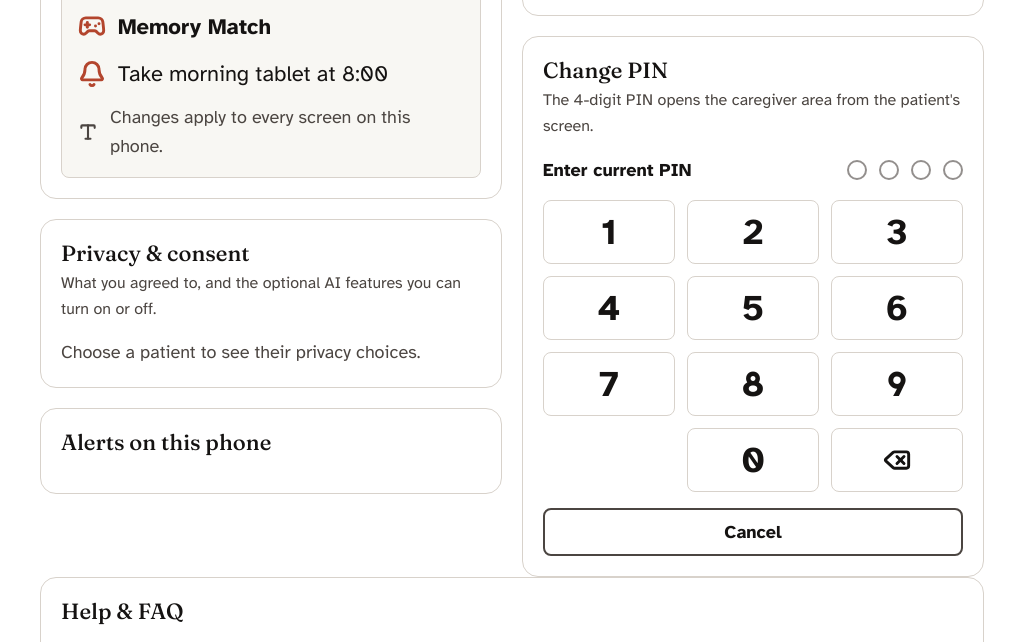
it: Caregiver settings page › blocks the new-PIN step when the current PIN is wrong
(page scrolled)
What coordinates should you click on to do the following:
click the button "9"
I would click on:
 (897, 384)
Its box is [831,352,963,416].
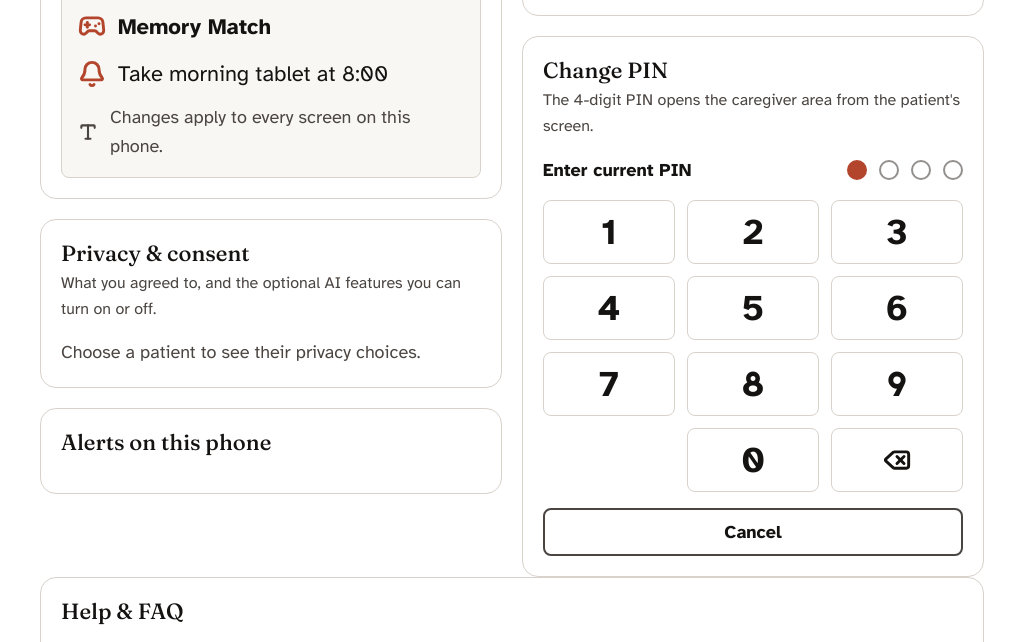
What coordinates should you click on to do the following:
click the button "9"
I would click on:
 (897, 384)
Its box is [831,352,963,416].
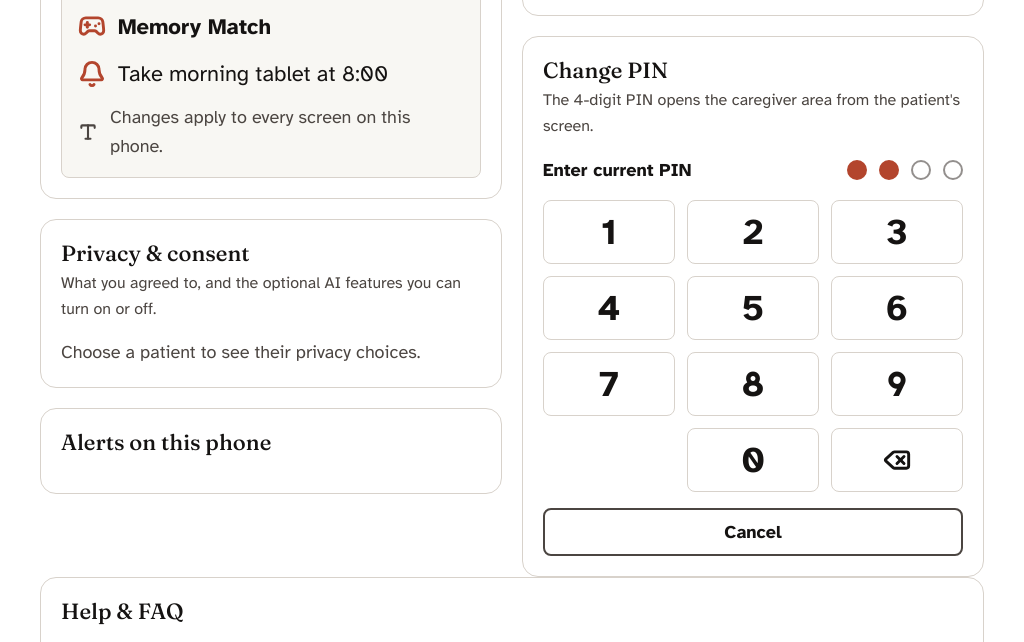
What coordinates should you click on to do the following:
click the button "9"
I would click on:
 (897, 384)
Its box is [831,352,963,416].
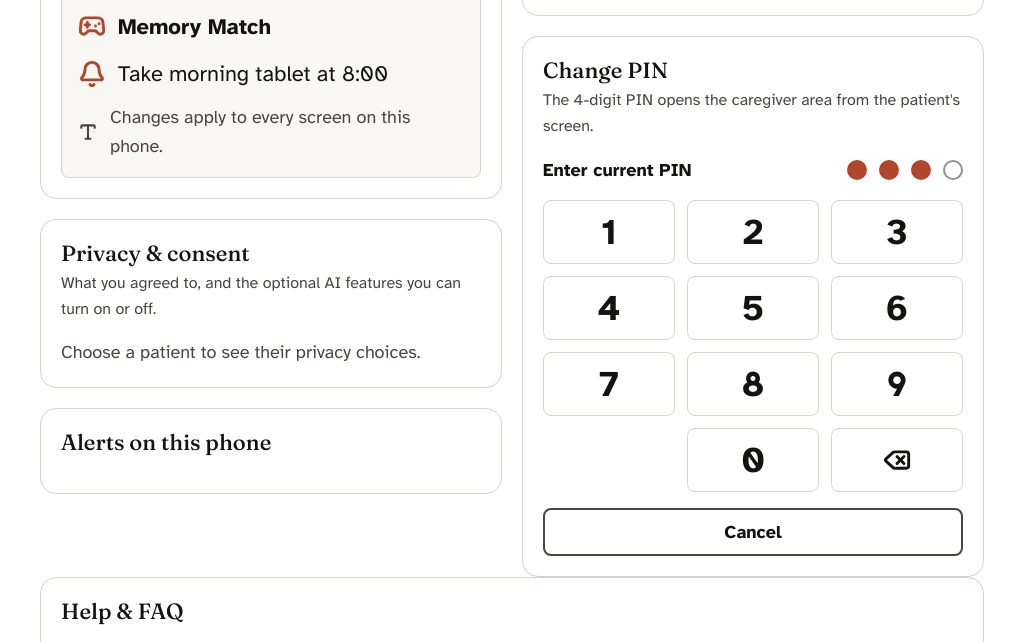
What coordinates should you click on to do the following:
click the button "9"
I would click on:
 (897, 384)
Its box is [831,352,963,416].
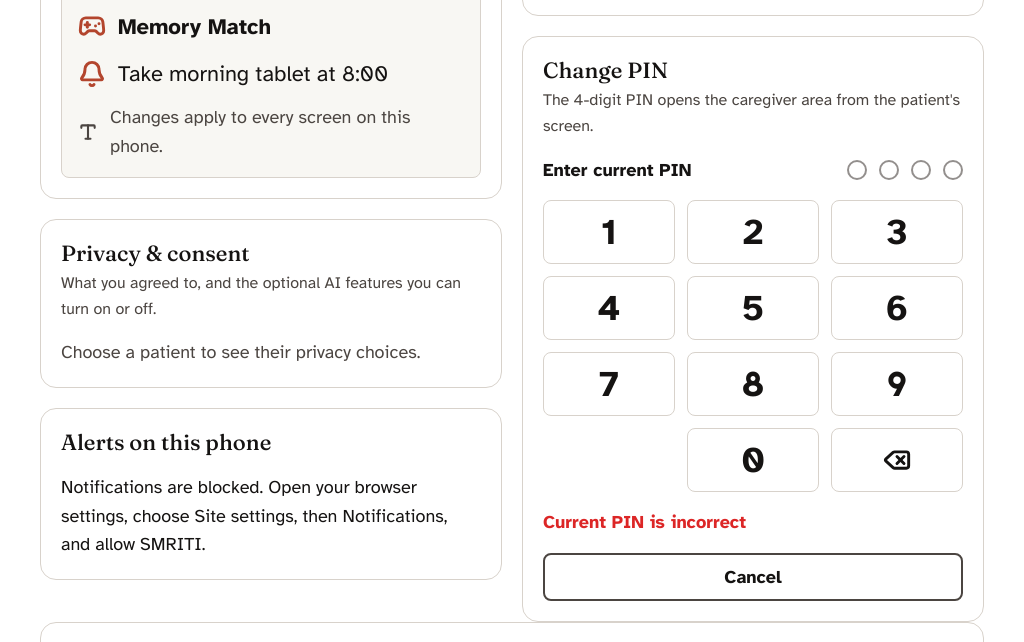
Check: the text "Enter current PIN" is shown, box [543,156,691,184]
Check: the text "Current PIN is incorrect" is shown, box [543,511,746,533]
